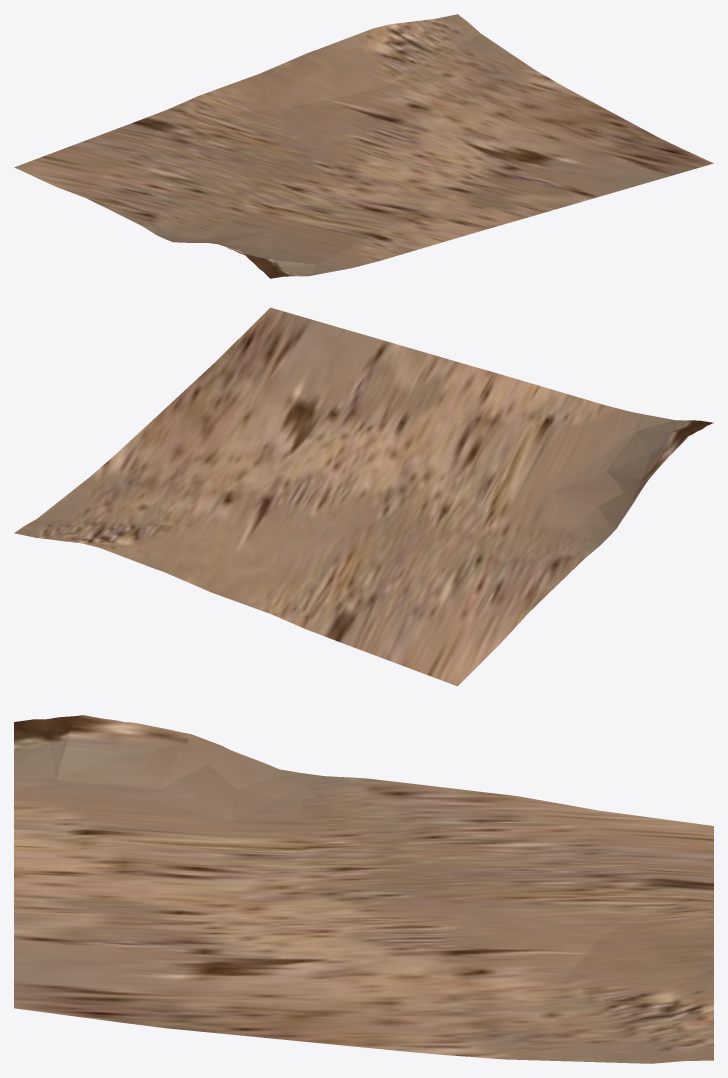
The picture shows the model from 3 angles, top to bottom: view 1: azimuth 30°, elevation 25°; view 2: azimuth 150°, elevation 25°; view 3: azimuth 270°, elevation 25°; orthographic projection. The views are drawn at different scales.
Size of the model in its own units: 1.04 by 0.1871 by 1.04.
2 materials, 2 textured.
